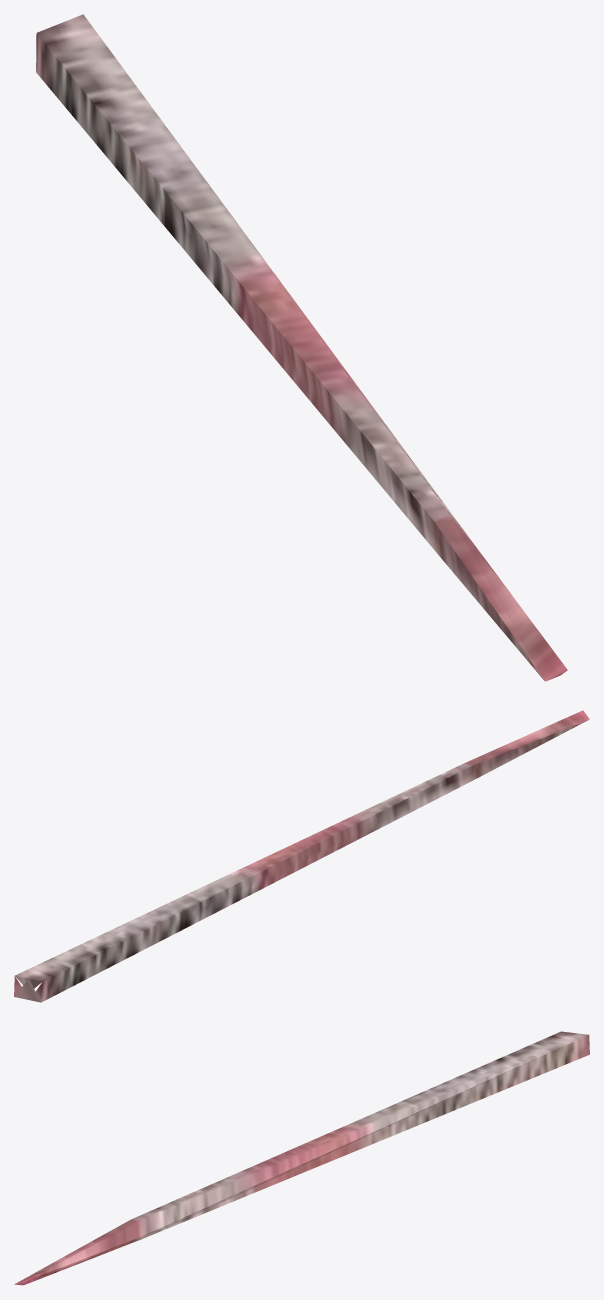
The picture shows the model from 3 angles, top to bottom: view 1: azimuth 30°, elevation 25°; view 2: azimuth 150°, elevation 25°; view 3: azimuth 330°, elevation 25°; orthographic projection. The views are drawn at different scales.
Visible parts, largest first — view 1: Mesh_0; view 2: Mesh_0; view 3: Mesh_0.
Part boxes in pixels (<box>): Mesh_0: <box>36,14,567,681</box>; Mesh_0: <box>14,710,589,1002</box>; Mesh_0: <box>14,1031,589,1285</box>.
Bounding box in the file's own units: 6.18 × 1.2 × 25.25.
1 material, 1 textured.
